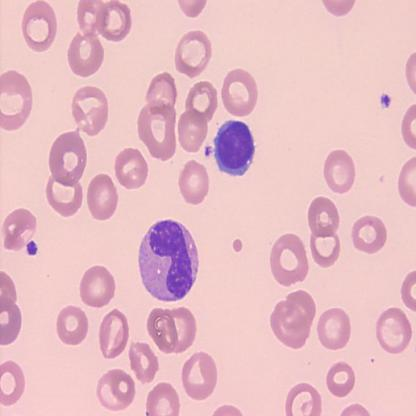Lymphocyte: (213, 118, 258, 176)
